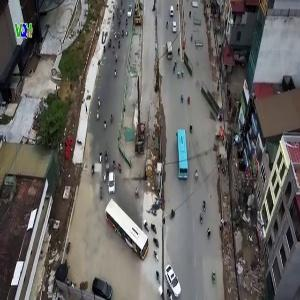drone: (132, 182, 186, 236)
